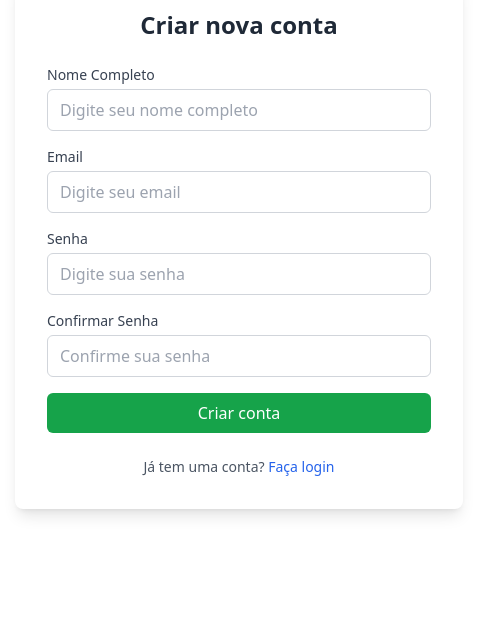
Test: RegisterForm › should validate required fields on submit
The image size is (479, 631).
Click the button "Criar conta": (239, 413) [47,393,431,433]
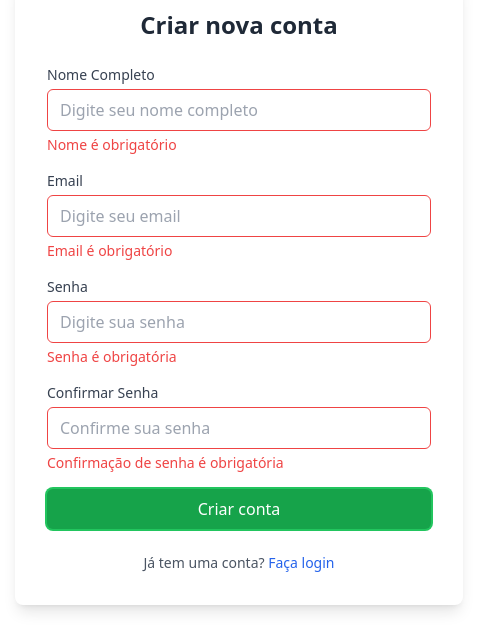
Expected: the text "Nome é obrigatório" is shown, [47,135,177,154]
Expected: the text "Email é obrigatório" is shown, [47,241,172,260]
Expected: the text "Senha é obrigatória" is shown, [47,347,177,366]
